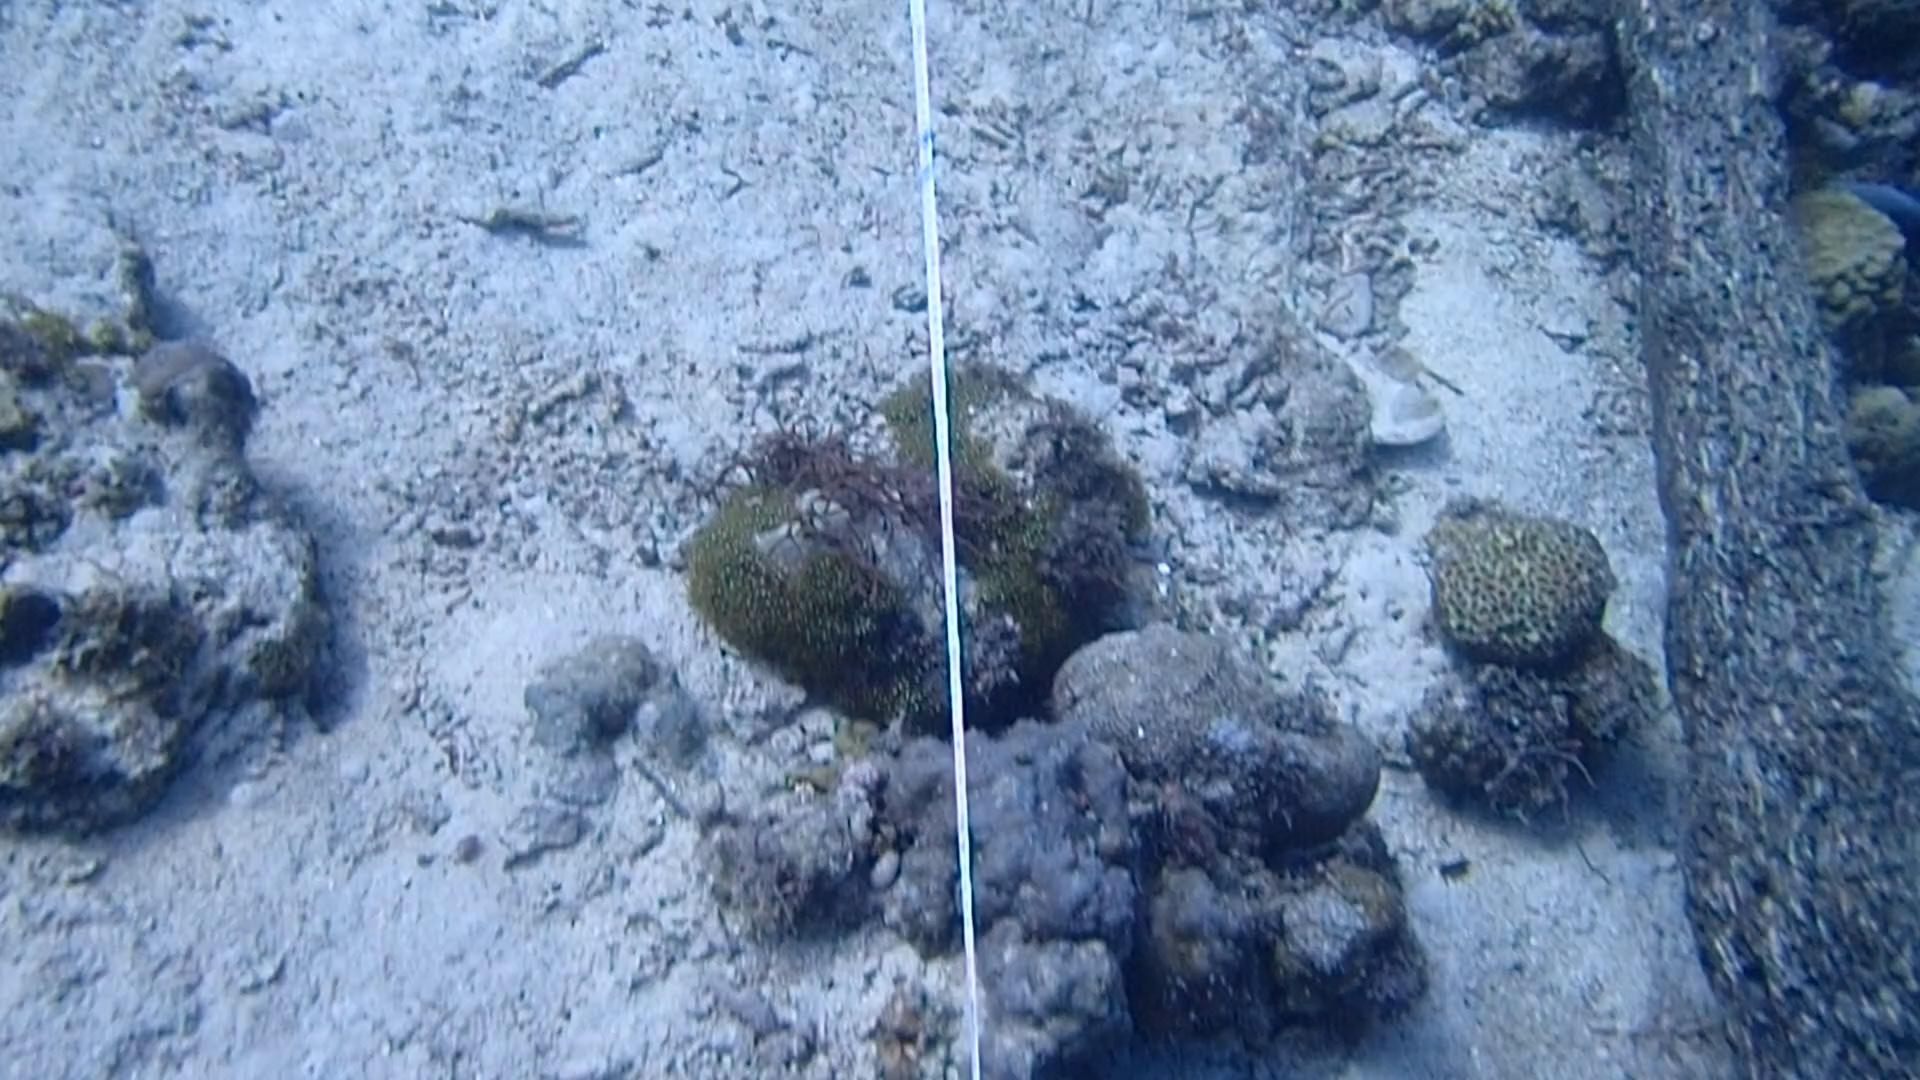UI: (1428, 844, 1484, 891)
